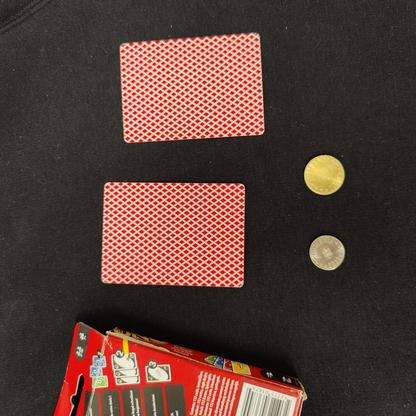card: (110, 26, 275, 150), (90, 172, 255, 296)
